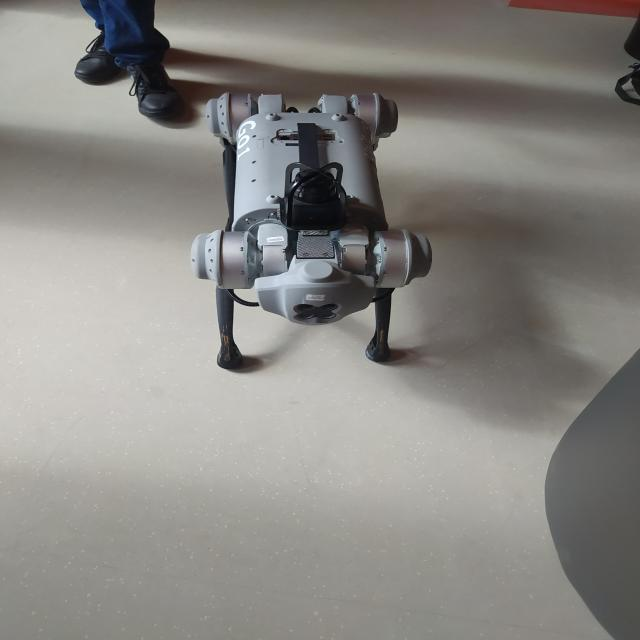unitree-go1-robot: (184, 80, 437, 380)
